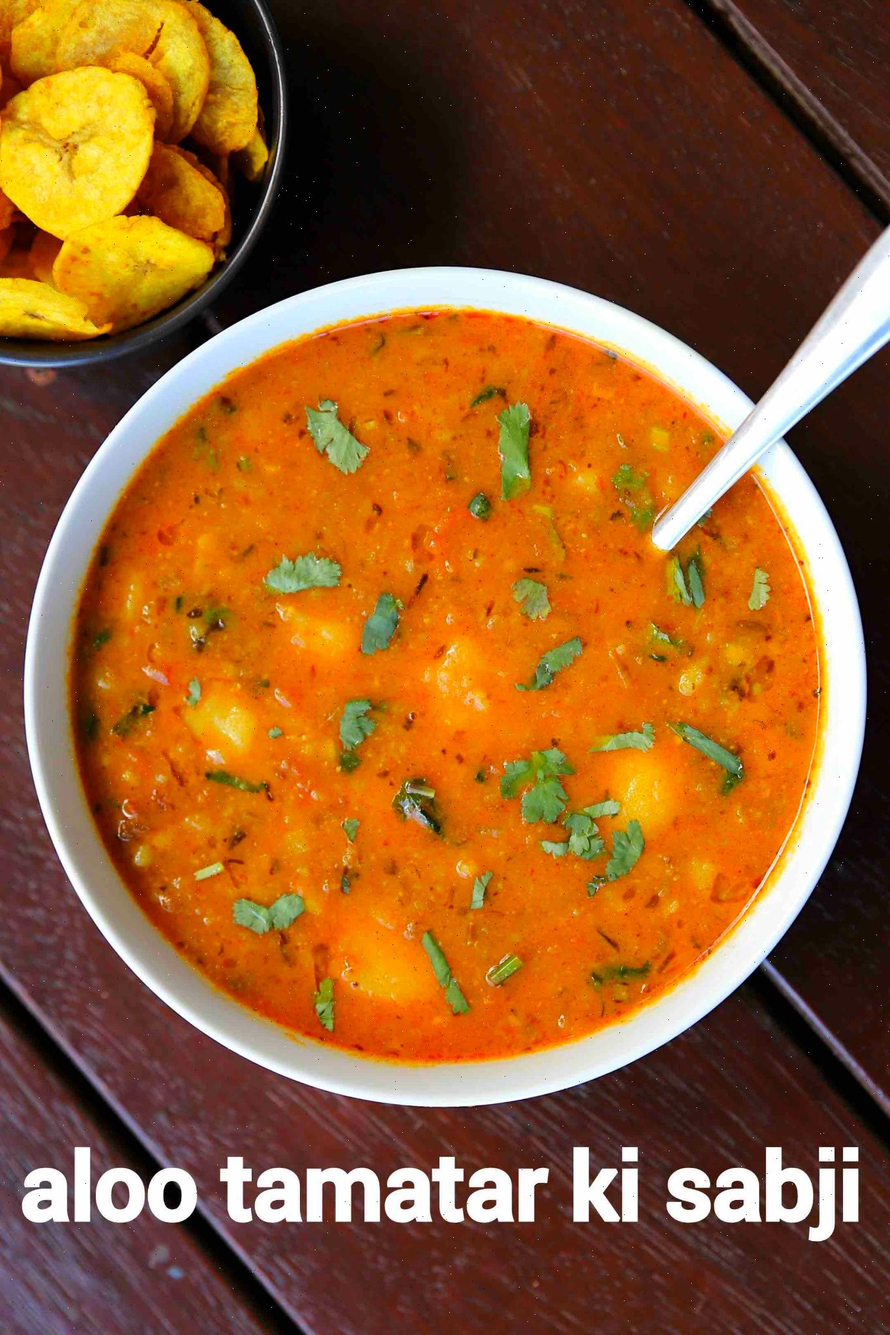aloo sabji: (117, 299, 765, 1076)
